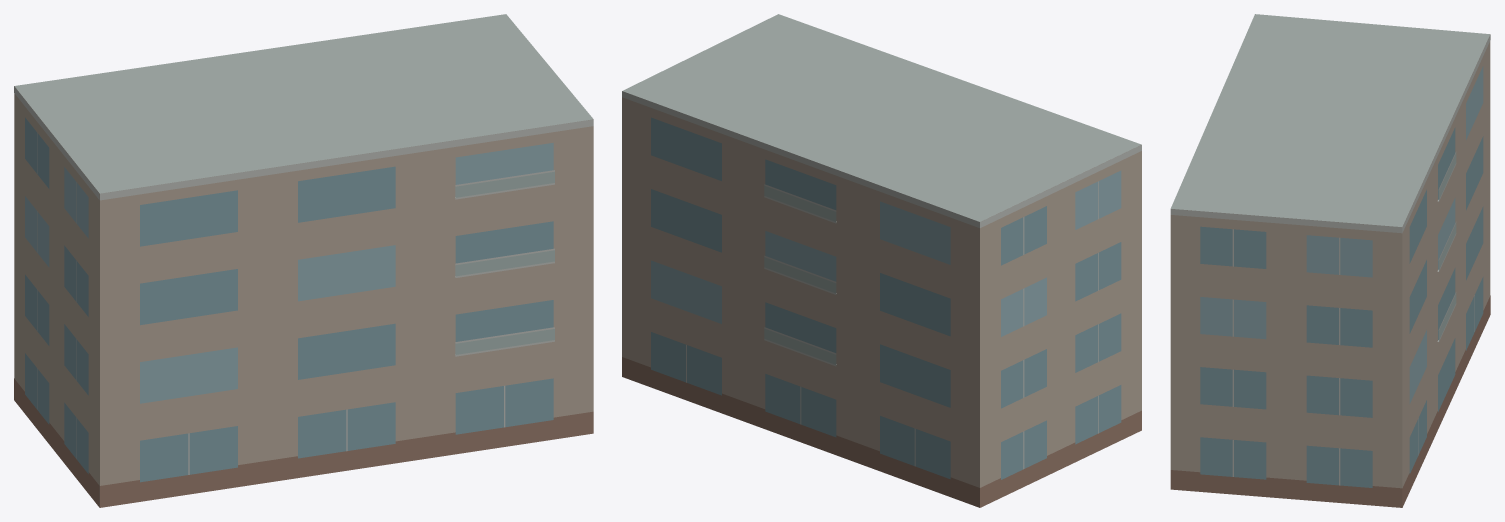
File: survey-upis-32764604.glb
3 renders of one model, left to right at view 1: azimuth 30°, elevation 25°; view 2: azimuth 150°, elevation 25°; view 3: azimuth 270°, elevation 25°, orthographic. The views are drawn at different scales.
Parts seen in each view (by area): view 1: survey-upis-32764604.tmp; view 2: survey-upis-32764604.tmp; view 3: survey-upis-32764604.tmp.
Boxes of the visible parts, bbox=[...] form: survey-upis-32764604.tmp: bbox=[14, 14, 593, 507]; survey-upis-32764604.tmp: bbox=[622, 14, 1141, 507]; survey-upis-32764604.tmp: bbox=[1170, 14, 1490, 507].
Size of the model in its own units: 18.33 by 11.25 by 11.63.
